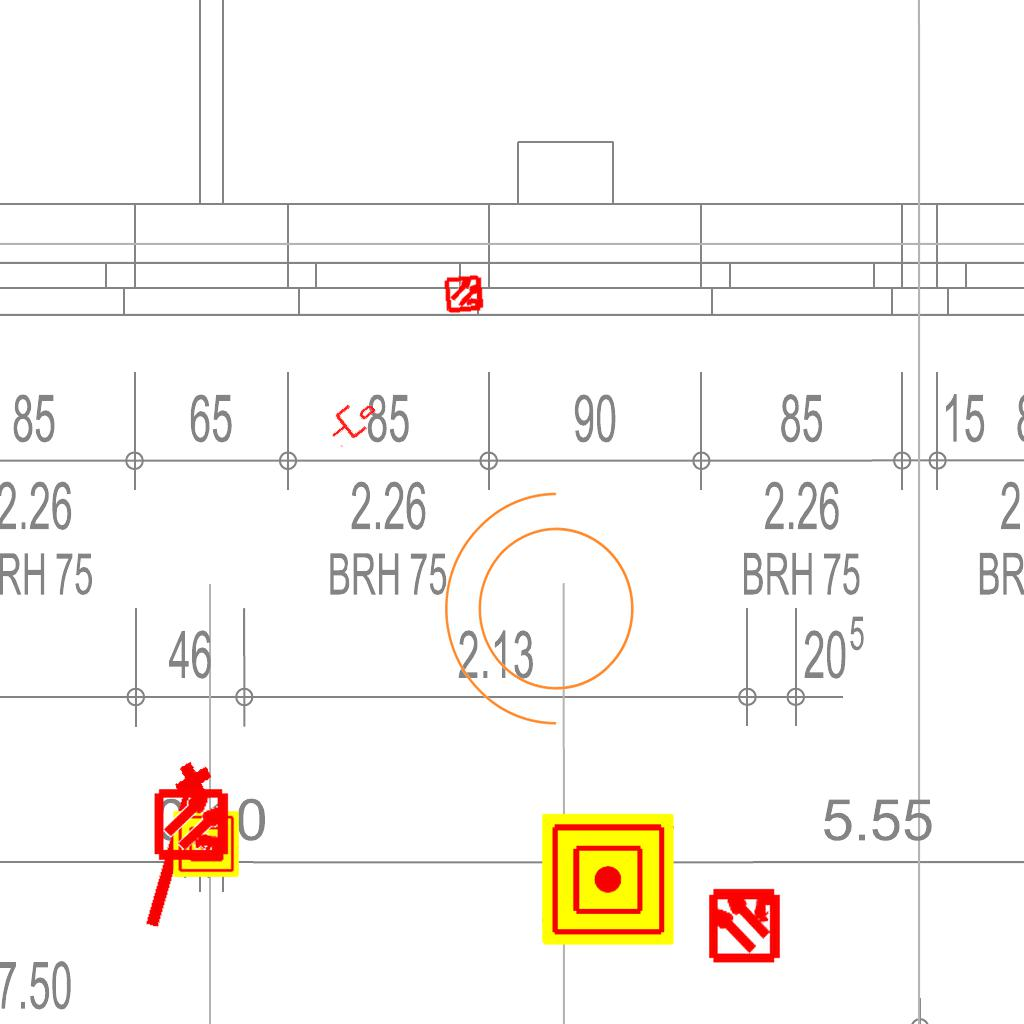ASR_Ansaugoeffnung: (130, 756, 224, 938)
Datenanschluss_einfach: (321, 392, 383, 450)
NAM-Nichtautomatischer_Melder: (542, 813, 674, 945), (173, 811, 239, 877)
OT_Multisensormelder_(Kombination_RMO_WMD): (688, 867, 801, 980), (137, 768, 250, 881), (434, 263, 496, 325)
Scheinwerfer_fuer_Alarmbeleuchtung: (434, 483, 659, 747)
